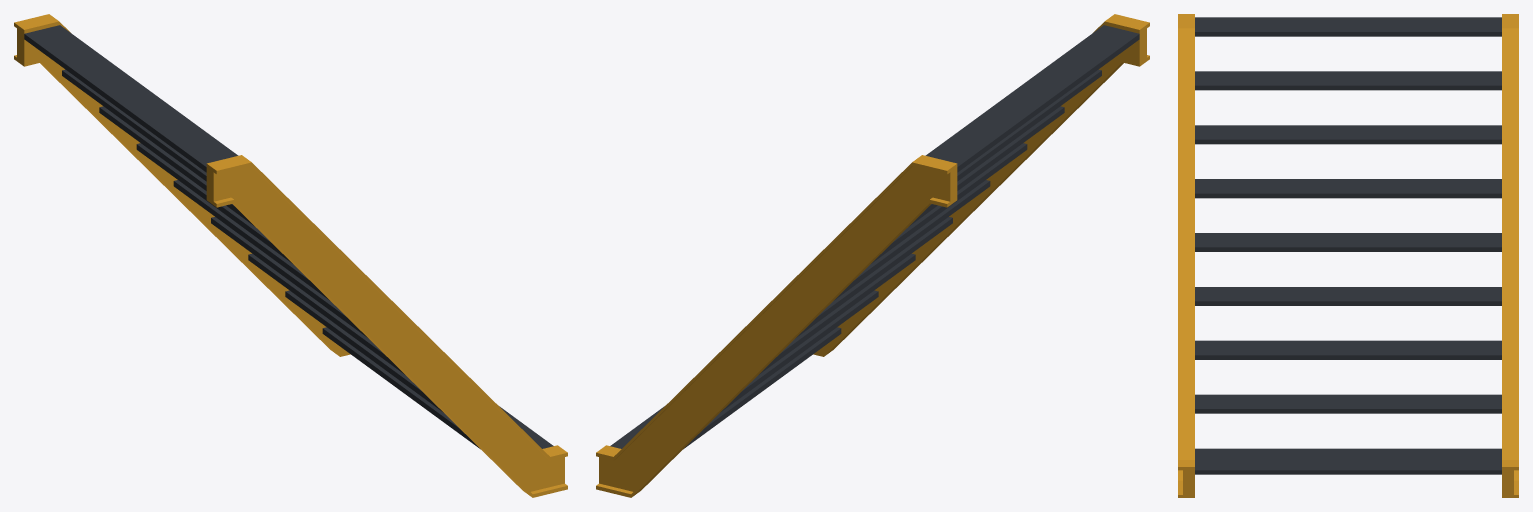
File: Catwalk_2x2_Stairs_2m.fbx
The picture shows the model from 3 angles, left to right: view 1: azimuth 30°, elevation 25°; view 2: azimuth 150°, elevation 25°; view 3: azimuth 270°, elevation 25°; orthographic projection. The views are drawn at different scales.
Visible parts, largest first — view 1: Catwalk_2x2_Stairs_2m; view 2: Catwalk_2x2_Stairs_2m; view 3: Catwalk_2x2_Stairs_2m.
Part boxes in pixels (x1,y1,x2,y2): Catwalk_2x2_Stairs_2m: [14, 14, 567, 497]; Catwalk_2x2_Stairs_2m: [596, 14, 1149, 497]; Catwalk_2x2_Stairs_2m: [1178, 14, 1518, 497].
Size of the model in its own units: 200 by 220 by 200.
